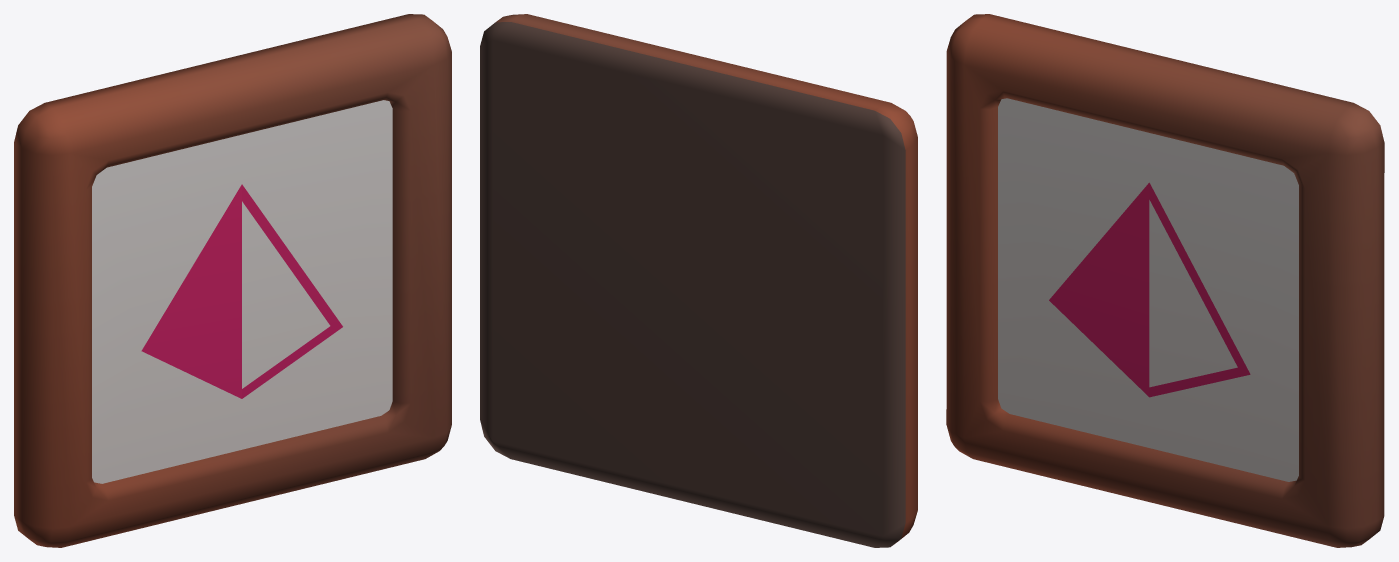
The model's file is Picture_21.glb.
3 renders of one model, left to right at view 1: azimuth 30°, elevation 25°; view 2: azimuth 150°, elevation 25°; view 3: azimuth 330°, elevation 25°, orthographic.
Parts seen in each view (by area): view 1: Picture_21; view 2: Picture_21; view 3: Picture_21.
Boxes of the visible parts, x1,y1,x2,y2 form: Picture_21: (14,14,451,547); Picture_21: (480,14,917,547); Picture_21: (946,14,1384,547).
Size of the model in its own units: 0.4773 by 0.4687 by 0.0585.
1 material, 1 textured.
